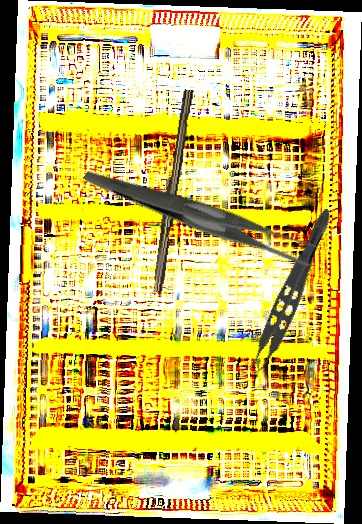Dressing Forceps: (82, 107, 322, 321)
Scalpel Handle: (149, 88, 194, 294)
Tissue Forceps: (239, 201, 336, 383)
